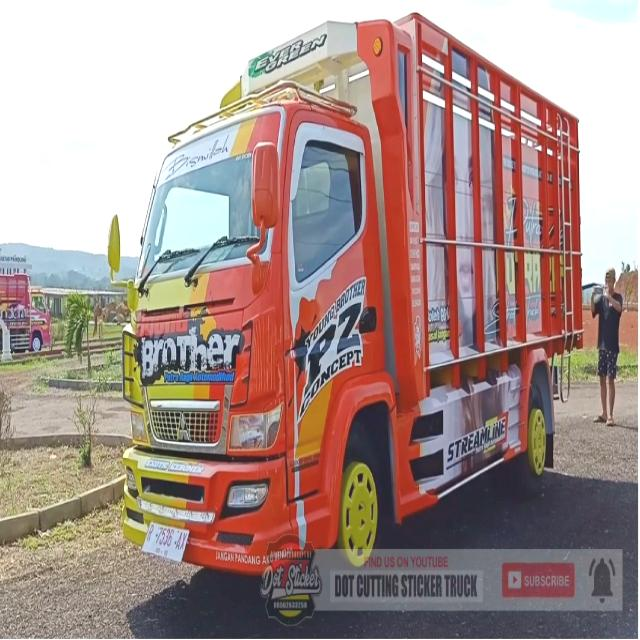truck: (107, 11, 583, 576)
